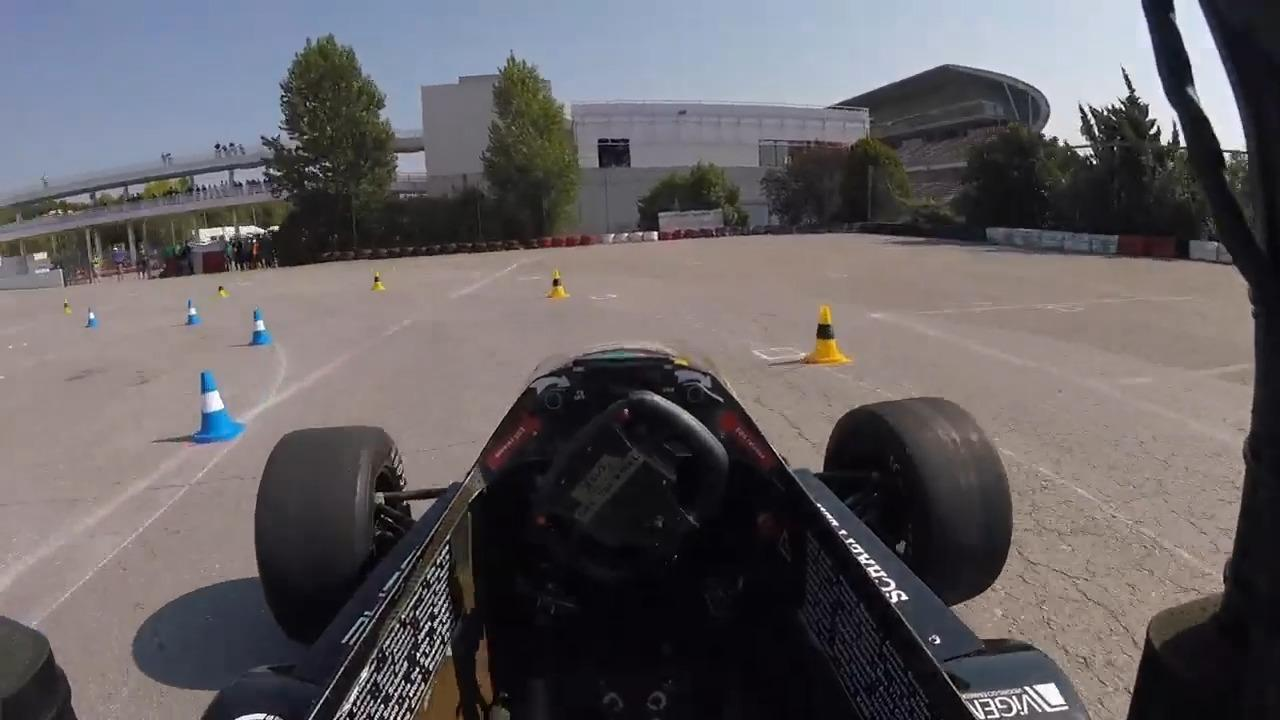blue_cone: (188, 370, 243, 446), (247, 309, 271, 348), (183, 300, 201, 327), (84, 307, 102, 330)
yellow_cone: (799, 303, 848, 365), (548, 271, 570, 301), (368, 272, 388, 295), (58, 297, 74, 319), (214, 284, 227, 301)
